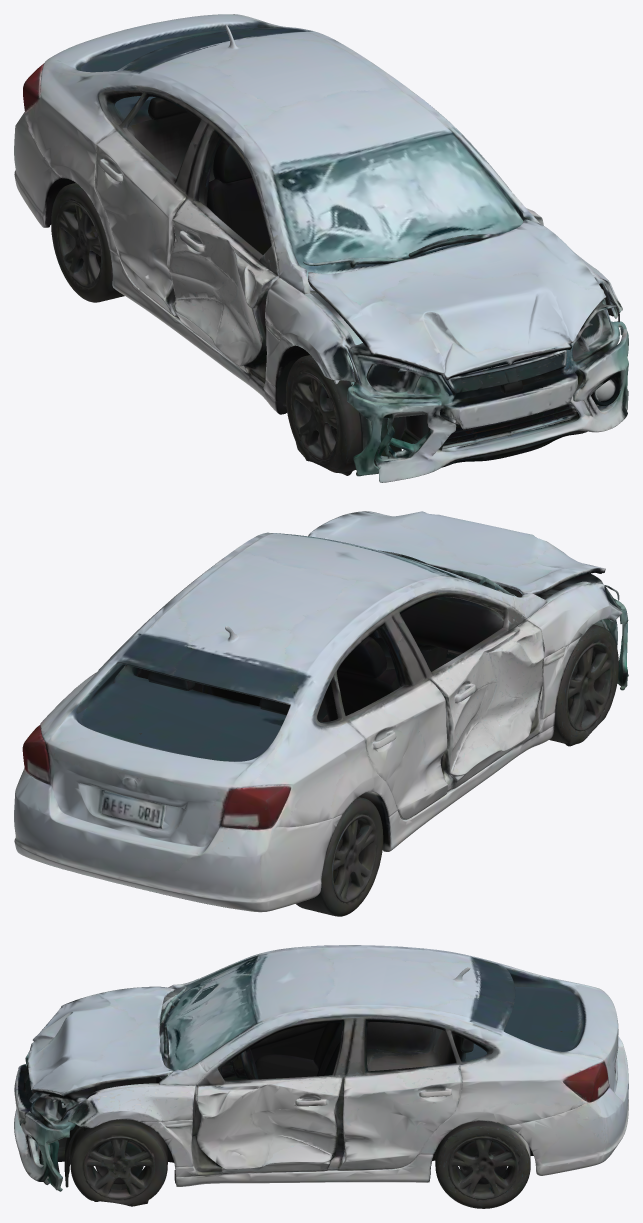
File: broken_car_b6d2e66d_v2.glb
The picture shows the model from 3 angles, top to bottom: view 1: azimuth 30°, elevation 25°; view 2: azimuth 150°, elevation 25°; view 3: azimuth 270°, elevation 25°; orthographic projection. The views are drawn at different scales.
Visible parts, largest first — view 1: material; view 2: material; view 3: material.
Part boxes in pixels (x1,y1,x2,y2): material: (14,14,628,482); material: (14,511,628,916); material: (14,945,628,1208).
Size of the model in its own units: 0.4965 by 0.4004 by 1.17.
Materials: 1 (1 with a texture image).
